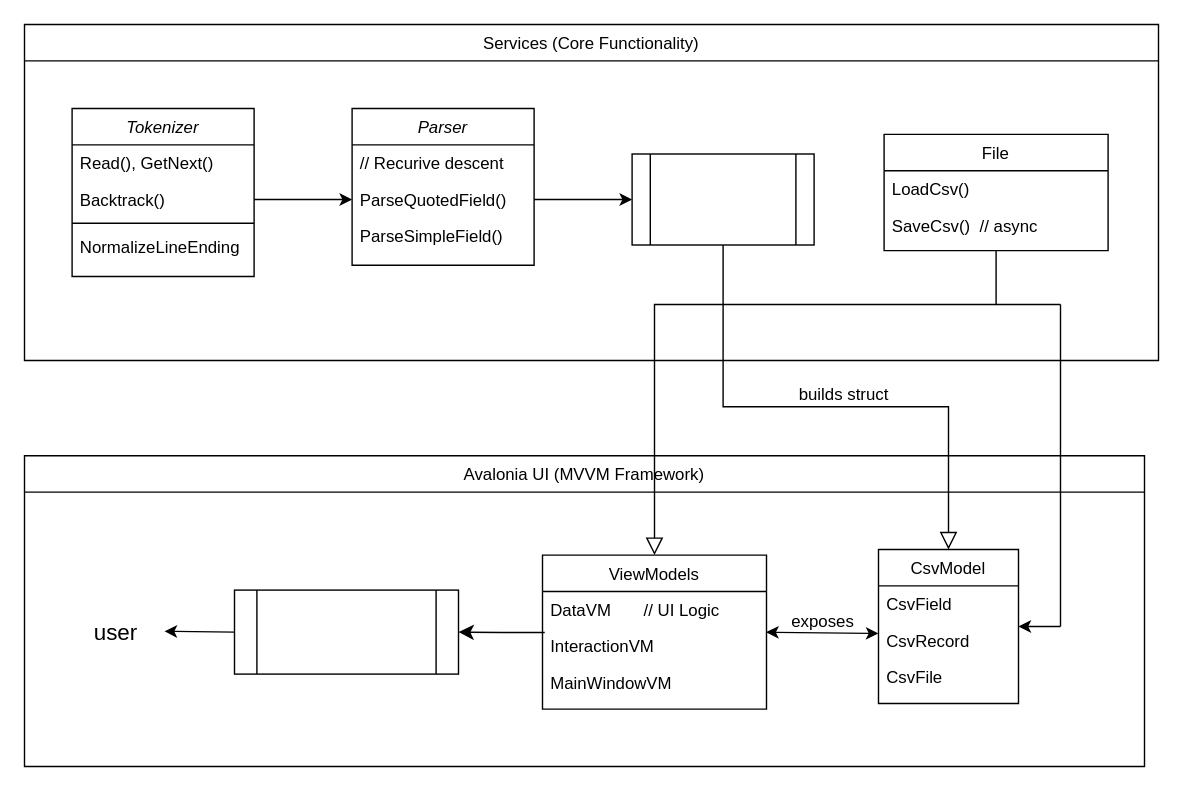
Image size: 1183x791. Some labels were removed from this diagram. Here are the shapes that lost their labels. From the top down, the centre of each, then its label:
At pixel 722 199: "Consumer".
At pixel 345 631: "Views // UI Components".
